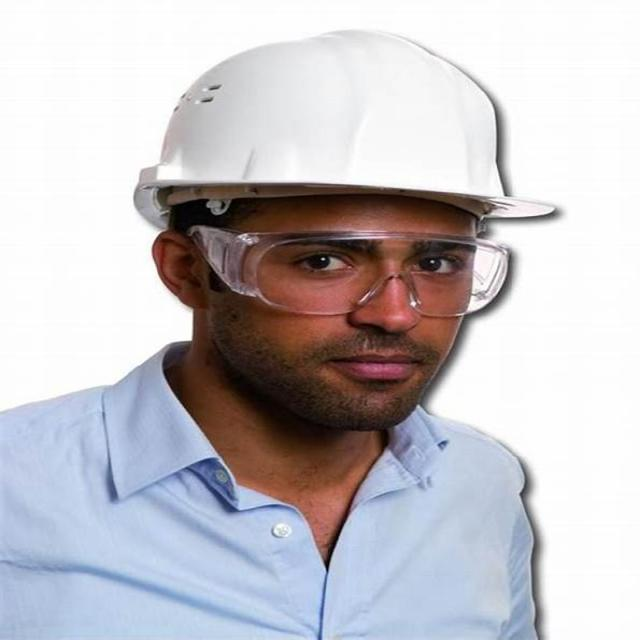illegal_helmet: (120, 17, 572, 441)
